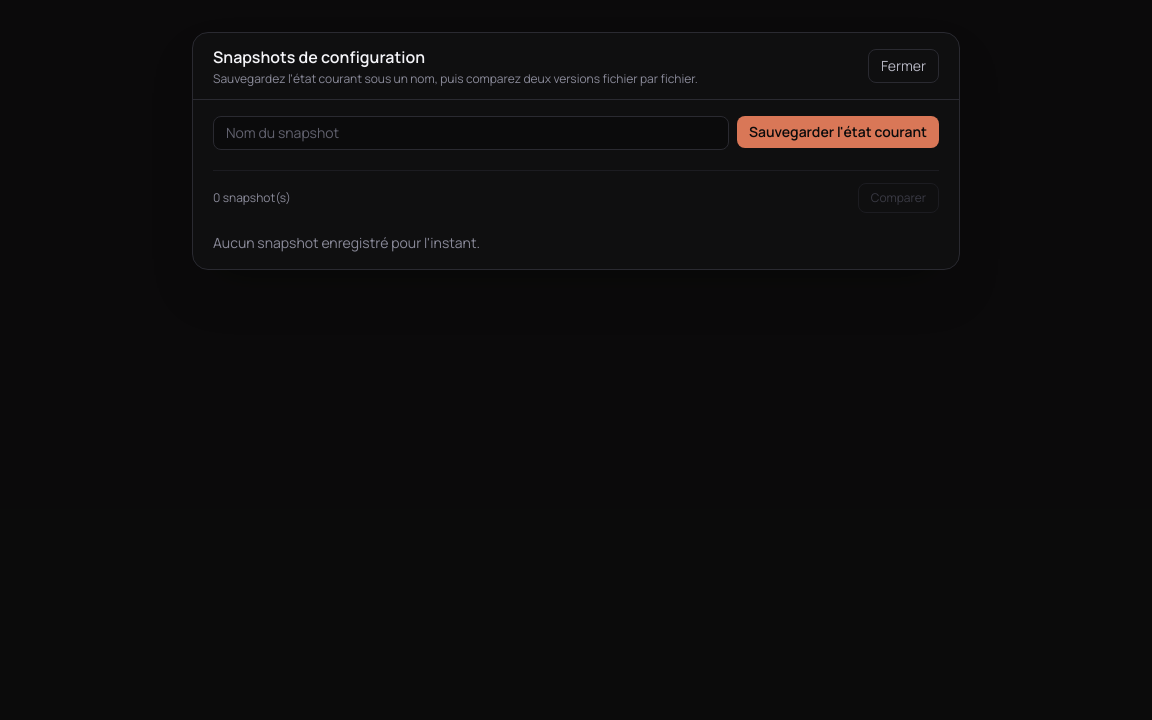
Test: SnapshotsPanel — sauvegarde et liste (jsdom localStorage) › refuse un nom vide avec un message d'erreur, sans creer de snapshot
This screenshot has width=1152, height=720.
Step 1. Click the button "Sauvegarder l'état courant" → (838, 132), box [737,116,939,148]
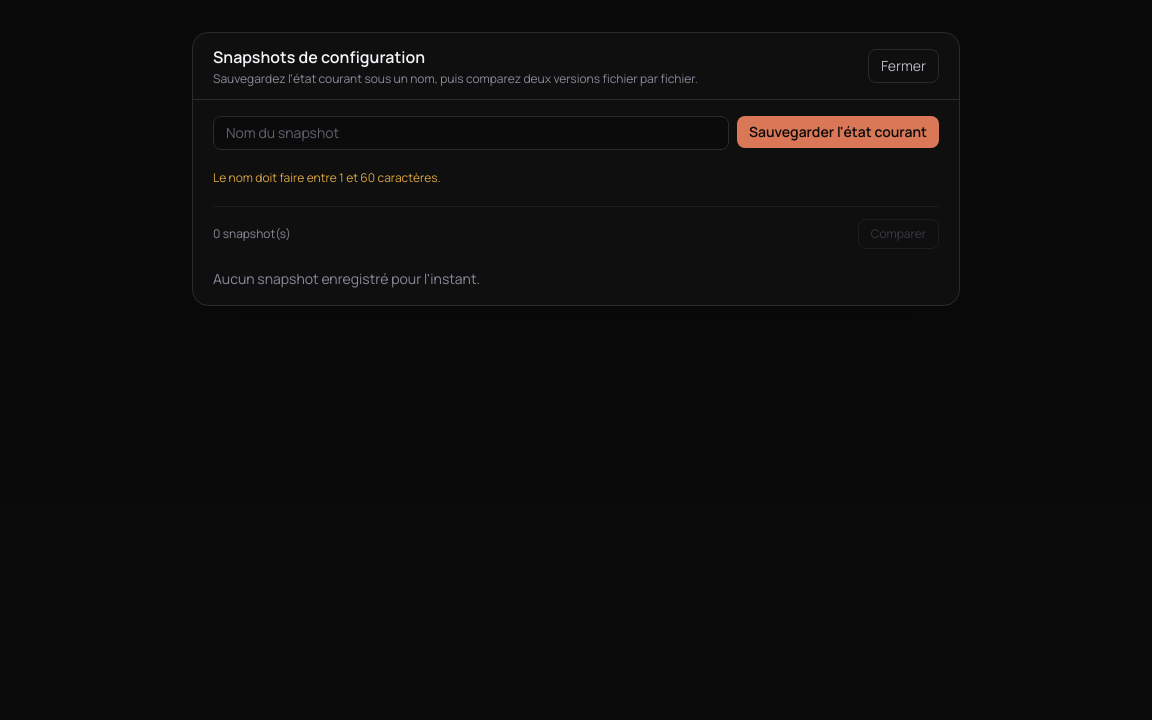
Expected: the text "Aucun snapshot enregistré pour l'instant." is shown, [213,269,480,288]
Expected: the text "Le nom doit faire entre 1 et 60 caractères." is shown, [213,169,441,186]
